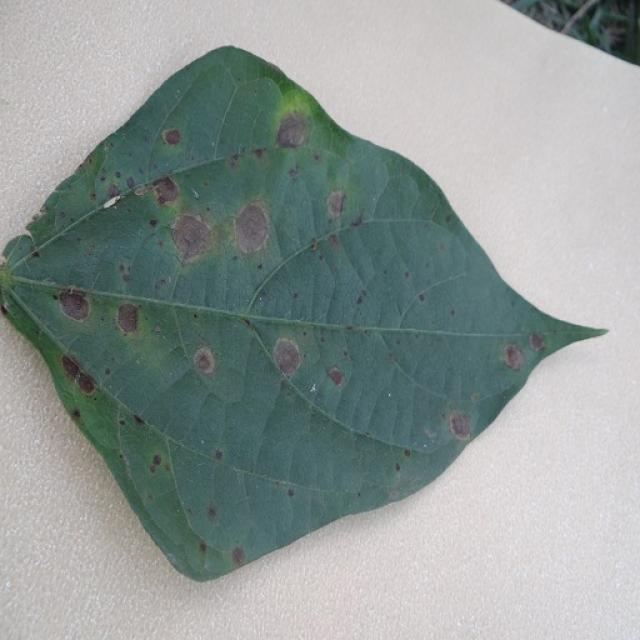Anthracnose: (264, 332, 312, 383), (171, 213, 214, 262), (500, 331, 548, 374), (234, 202, 272, 253), (61, 354, 98, 396), (274, 112, 309, 148), (56, 289, 91, 322), (115, 302, 141, 335), (447, 410, 473, 441), (152, 175, 179, 203), (326, 189, 346, 218), (502, 344, 524, 370), (193, 349, 214, 374), (161, 127, 182, 146), (327, 366, 345, 386), (528, 331, 545, 352), (101, 195, 121, 210), (232, 546, 246, 567), (118, 263, 132, 284), (106, 182, 121, 200), (328, 233, 340, 249), (133, 185, 149, 197), (227, 154, 239, 170), (207, 505, 217, 520), (356, 292, 367, 305), (133, 414, 146, 425), (425, 427, 437, 438), (388, 489, 400, 500), (253, 148, 264, 160), (152, 454, 162, 466), (126, 177, 136, 189), (288, 167, 298, 178), (199, 541, 207, 554), (71, 409, 81, 419), (351, 218, 362, 227), (215, 450, 223, 461), (31, 249, 40, 258), (287, 488, 295, 498), (1, 304, 8, 315), (149, 219, 158, 227), (418, 293, 425, 302), (404, 449, 411, 457), (403, 271, 410, 279), (395, 462, 401, 471), (119, 419, 126, 426), (147, 492, 153, 500), (105, 368, 111, 375), (292, 292, 298, 299), (450, 309, 455, 316)
Blackgram: (0, 46, 604, 580)
